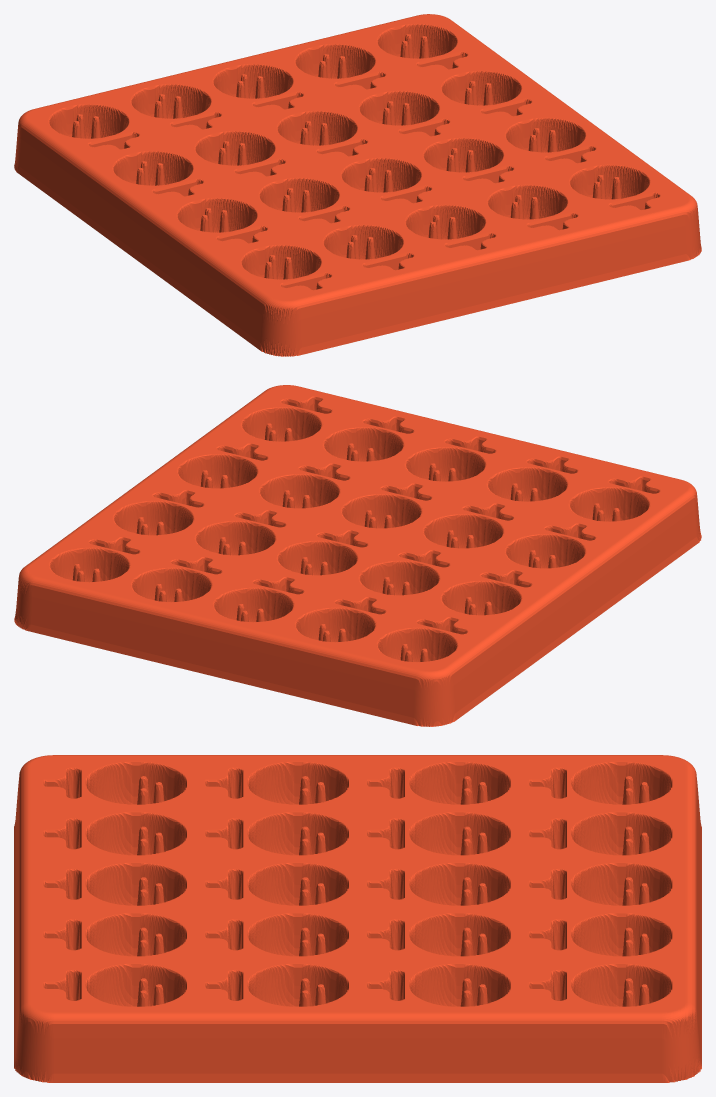
The model's file is mold.glb.
3 views of the same model, one above another, from view 1: azimuth 30°, elevation 25°; view 2: azimuth 150°, elevation 25°; view 3: azimuth 270°, elevation 25° (orthographic). The views are drawn at different scales.
Parts seen in each view (by area): view 1: geometry_0; view 2: geometry_0; view 3: geometry_0.
Boxes of the visible parts, bbox=[...] form: geometry_0: bbox=[14, 14, 701, 356]; geometry_0: bbox=[14, 385, 701, 726]; geometry_0: bbox=[14, 755, 701, 1082].
Size of the model in its own units: 0.1451 by 0.0159 by 0.1563.
